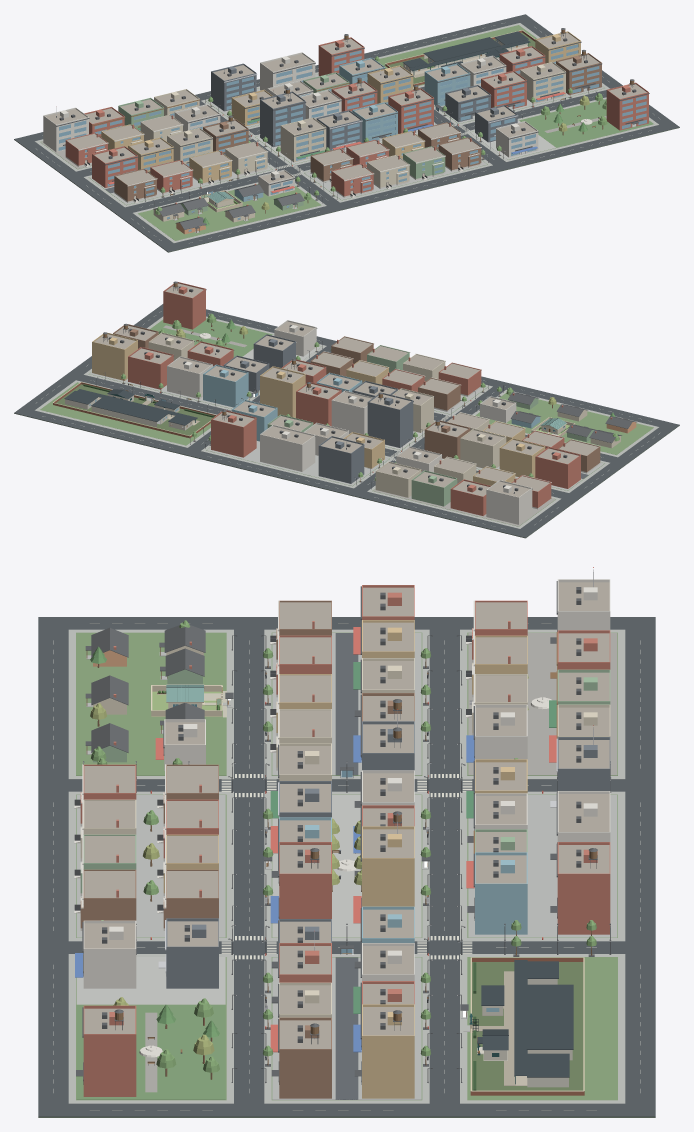
Rendered from world_new.glb.
3 renders of one model, top to bottom at view 1: azimuth 30°, elevation 25°; view 2: azimuth 150°, elevation 25°; view 3: azimuth 270°, elevation 25°, orthographic. The views are drawn at different scales.
Parts seen in each view (by area): view 1: Merged | World | Interior Floor | cell 1-0, Merged | World | Interior Floor | cell 0-1, Merged | World | Interior Floor | cell 1-1, Merged | World | Window Glass | cell 1-0, Merged | World | Open blocks | cell 0-0, Merged | World | Brick Red | cell 1-0, Merged | World | Park Turf | cell 2-0, Merged | World | Brick Red | cell 2-0, Merged | World | Window Glass | cell 2-0, Merged | World | Asphalt | cell 0-0, Merged | World | Interior Floor | cell 2-0, Merged | World | Metal Charcoal | cell 0-0 (+59 smaller); view 2: Merged | World | Interior Floor | cell 1-0, Merged | World | Interior Floor | cell 0-1, Merged | World | Modern Slate | cell 1-1, Merged | World | Interior Floor | cell 1-1, Merged | World | Civic Stone Ivory | cell 1-1, Merged | World | Brick Red | cell 1-1, Merged | World | Brick Red | cell 0-1, Merged | World | Vanilla Plaster | cell 0-1, Merged | World | Brick Red | cell 2-0, Merged | World | Civic Stone Ivory | cell 0-1, Merged | World | Asphalt | cell 0-0, Merged | World | Interior Floor | cell 2-0 (+43 smaller); view 3: Merged | World | Interior Floor | cell 1-0, Merged | World | Interior Floor | cell 0-1, Merged | World | Interior Floor | cell 1-1, Merged | World | Open blocks | cell 0-0, Merged | World | Asphalt | cell 3-0, Merged | World | Interior Floor | cell 2-0, Merged | World | Park Turf | cell 2-0, Merged | World | Interior Floor | cell 0-0, Merged | World | Paved Concrete | cell 1-1, Merged | World | Open blocks | cell 2-1, Merged | World | Metal Charcoal | cell 0-0, Merged | World | Cobblestone | cell 0-1 (+81 smaller).
Part boxes in pixels (bbox=[...]): Merged | World | Interior Floor | cell 1-0: bbox=[283, 89, 479, 194]; Merged | World | Interior Floor | cell 0-1: bbox=[45, 90, 246, 163]; Merged | World | Interior Floor | cell 1-1: bbox=[213, 39, 410, 108]; Merged | World | Window Glass | cell 1-0: bbox=[275, 78, 478, 190]; Merged | World | Open blocks | cell 0-0: bbox=[89, 166, 321, 240]; Merged | World | Brick Red | cell 1-0: bbox=[331, 88, 435, 196]; Merged | World | Park Turf | cell 2-0: bbox=[519, 99, 653, 147]; Merged | World | Brick Red | cell 2-0: bbox=[420, 55, 648, 141]; Merged | World | Window Glass | cell 2-0: bbox=[436, 48, 632, 156]; Merged | World | Asphalt | cell 0-0: bbox=[14, 136, 180, 251]; Merged | World | Interior Floor | cell 2-0: bbox=[447, 54, 646, 137]; Merged | World | Metal Charcoal | cell 0-0: bbox=[105, 126, 304, 229]; Merged | World | Interior Floor | cell 1-0: bbox=[283, 337, 479, 405]; Merged | World | Interior Floor | cell 0-1: bbox=[378, 422, 578, 497]; Merged | World | Modern Slate | cell 1-1: bbox=[318, 394, 413, 483]; Merged | World | Interior Floor | cell 1-1: bbox=[213, 367, 410, 453]; Merged | World | Civic Stone Ivory | cell 1-1: bbox=[260, 391, 409, 471]; Merged | World | Brick Red | cell 1-1: bbox=[211, 383, 341, 457]; Merged | World | Brick Red | cell 0-1: bbox=[439, 447, 580, 515]; Merged | World | Vanilla Plaster | cell 0-1: bbox=[376, 428, 506, 497]; Merged | World | Brick Red | cell 2-0: bbox=[141, 282, 338, 368]; Merged | World | Civic Stone Ivory | cell 0-1: bbox=[396, 446, 551, 524]; Merged | World | Asphalt | cell 0-0: bbox=[513, 421, 679, 537]; Merged | World | Interior Floor | cell 2-0: bbox=[115, 283, 314, 372]; Merged | World | Interior Floor | cell 1-0: bbox=[84, 746, 330, 897]; Merged | World | Interior Floor | cell 0-1: bbox=[363, 582, 609, 735]; Merged | World | Interior Floor | cell 1-1: bbox=[363, 724, 609, 883]; Merged | World | Open blocks | cell 0-0: bbox=[76, 632, 422, 775]; Merged | World | Asphalt | cell 3-0: bbox=[38, 1103, 655, 1116]; Merged | World | Interior Floor | cell 2-0: bbox=[84, 921, 330, 1048]; Merged | World | Park Turf | cell 2-0: bbox=[76, 1005, 225, 1099]; Merged | World | Interior Floor | cell 0-0: bbox=[165, 602, 331, 744]; Merged | World | Paved Concrete | cell 1-1: bbox=[422, 795, 617, 937]; Merged | World | Open blocks | cell 2-1: bbox=[467, 957, 617, 1100]; Merged | World | Metal Charcoal | cell 0-0: bbox=[85, 586, 385, 759]; Merged | World | Cobblestone | cell 0-1: bbox=[468, 633, 617, 775].
Size of the model in its own units: 314 by 29.11 by 164.
